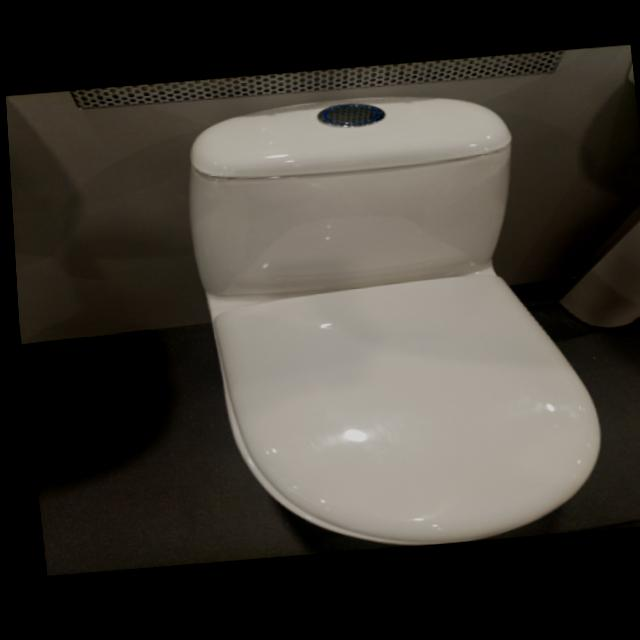toilet: (174, 83, 607, 563)
